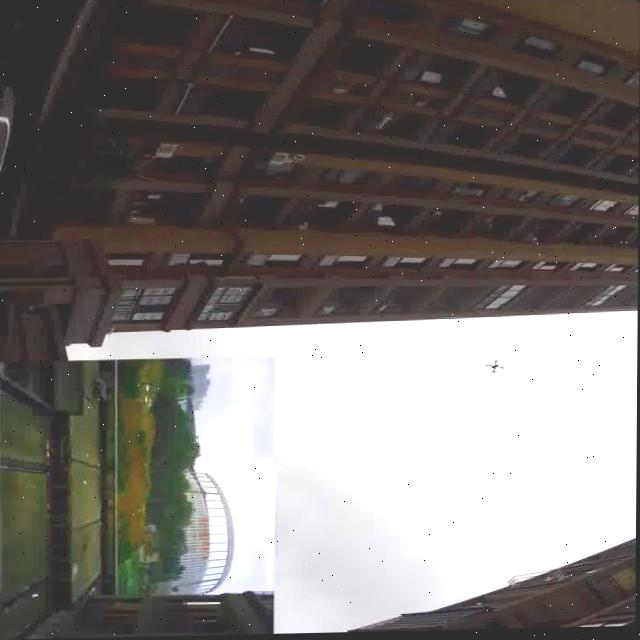drone: (487, 357, 512, 377)
